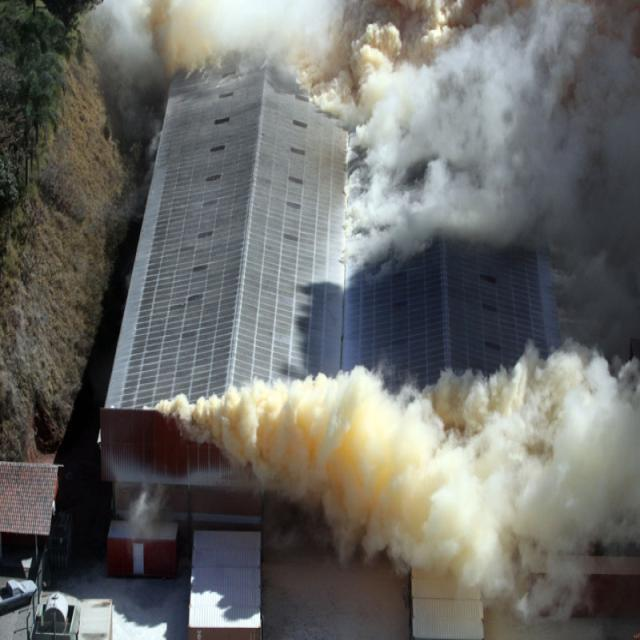Smoke: (152, 352, 636, 622), (347, 0, 640, 282), (88, 0, 348, 89)
